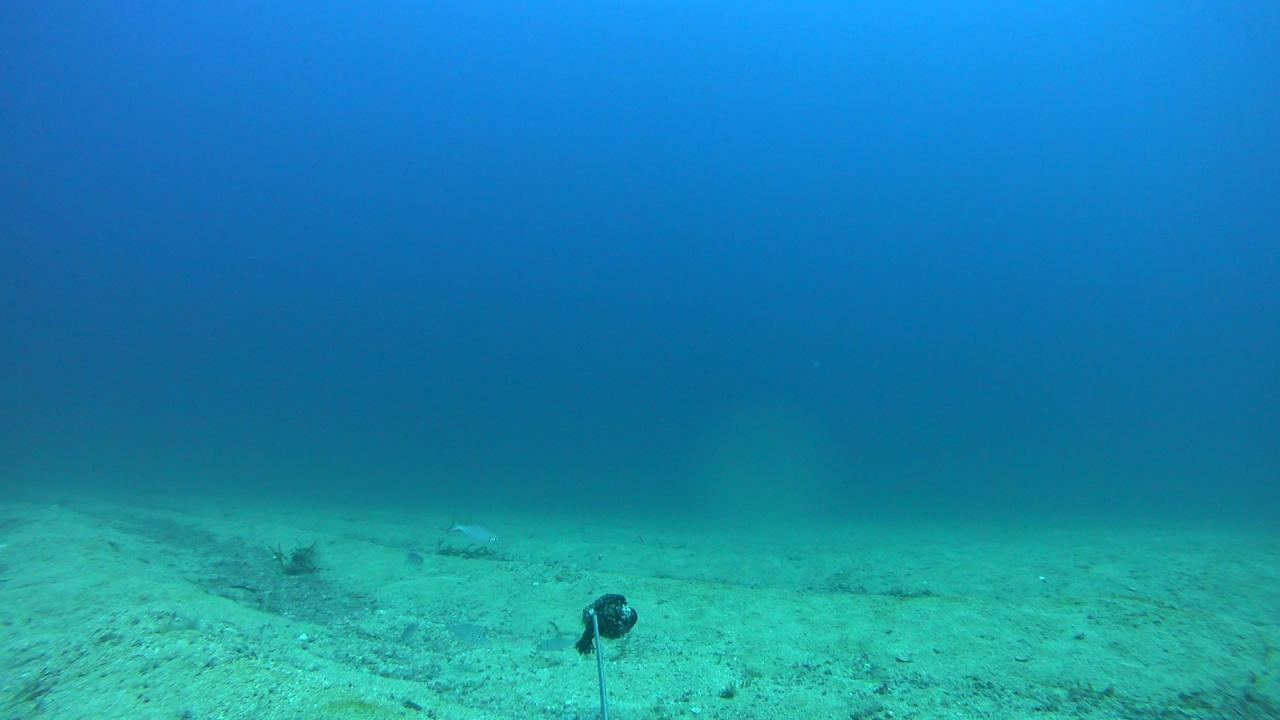pagellus: (445, 514, 500, 545), (439, 620, 493, 648), (537, 636, 580, 652), (396, 618, 419, 646)
